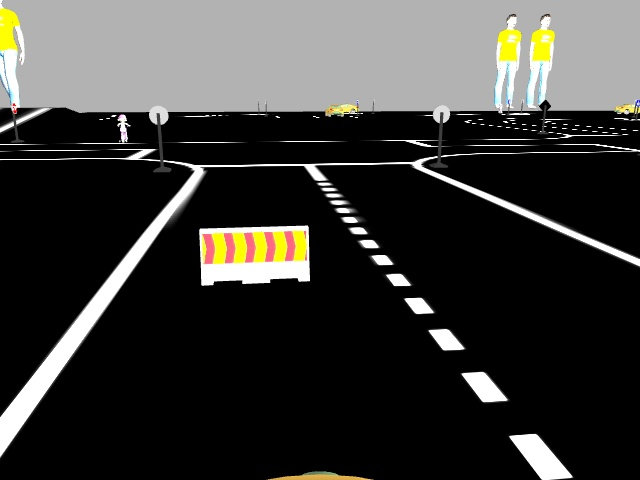ClosedRoadStand: (199, 228, 309, 281)
